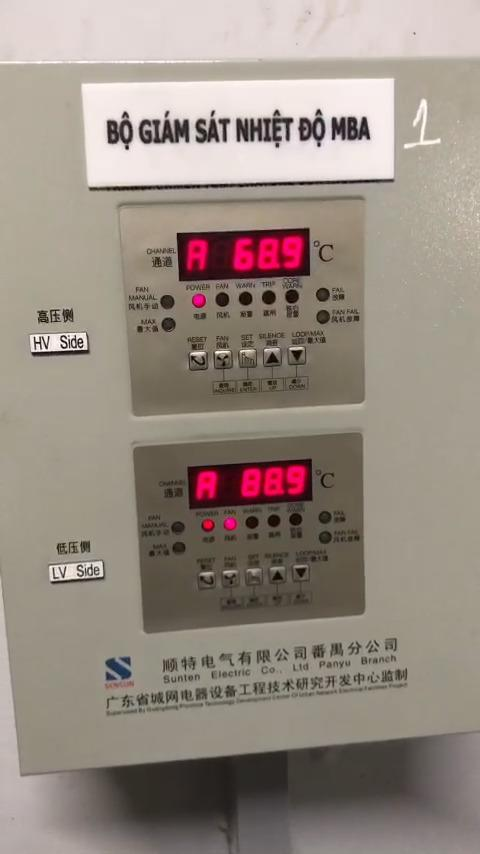led: (191, 293, 207, 309), (238, 291, 253, 306), (160, 294, 175, 309), (316, 309, 331, 324), (285, 289, 300, 303), (261, 290, 276, 304), (162, 317, 176, 332), (216, 292, 230, 306), (318, 511, 332, 525), (246, 515, 260, 529), (201, 518, 215, 532), (171, 521, 185, 535), (318, 530, 332, 544), (172, 541, 186, 555), (316, 288, 330, 301), (289, 513, 303, 526), (268, 514, 281, 528), (223, 518, 237, 531)
